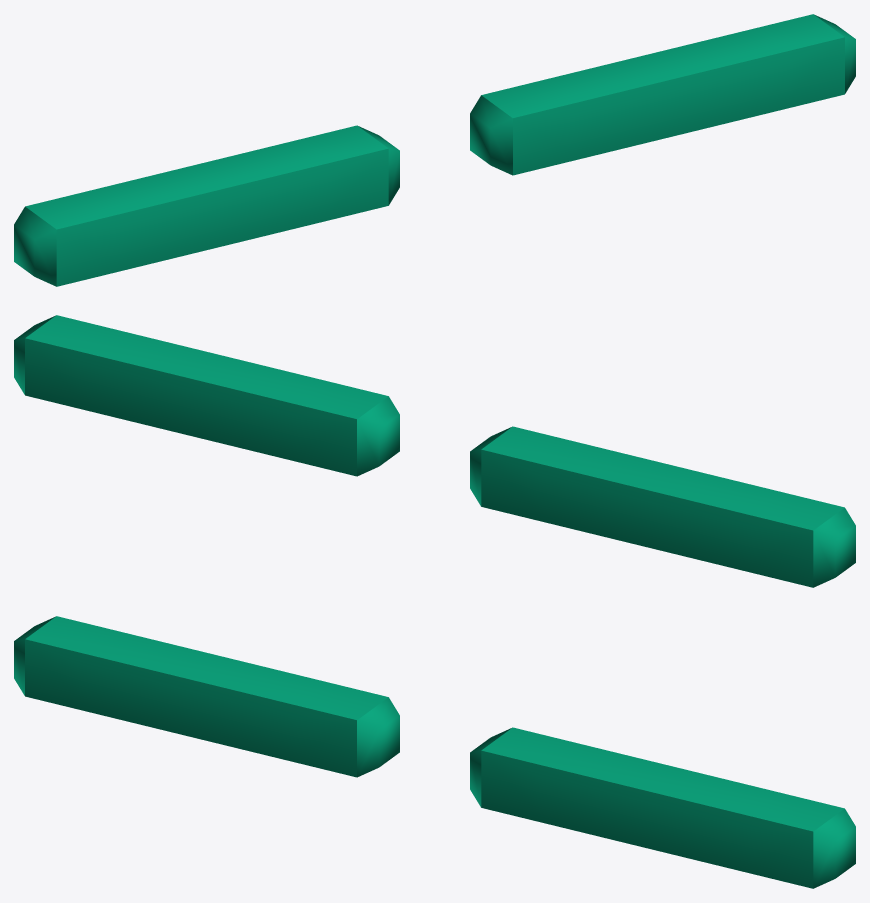
Rendered from treeline.glb.
3 views of the same model, one above another, from view 1: azimuth 30°, elevation 25°; view 2: azimuth 150°, elevation 25°; view 3: azimuth 330°, elevation 25° (orthographic).
Visible parts, largest first — view 1: mergedBlocks(Clone); view 2: mergedBlocks(Clone); view 3: mergedBlocks(Clone).
Boxes of the visible parts, box(x1,y1,x2,y2) form: mergedBlocks(Clone): box(14, 14, 855, 286); mergedBlocks(Clone): box(14, 315, 855, 587); mergedBlocks(Clone): box(14, 616, 855, 888).
Size of the model in its own units: 9 by 0.66 by 0.66.
